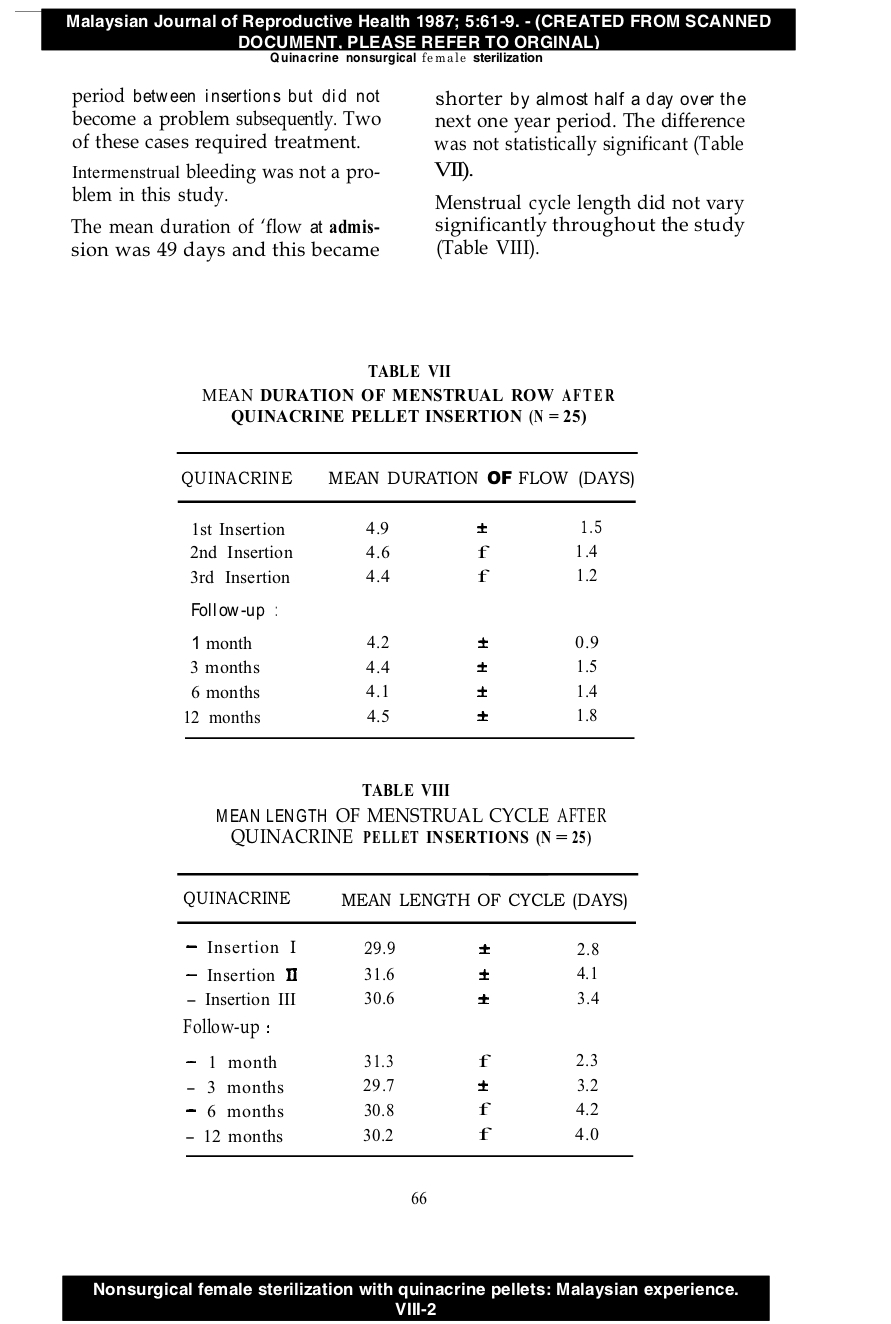Table: (176, 452, 637, 738), (177, 873, 638, 1156)
figure: (15, 7, 795, 65), (62, 1272, 769, 1321)
